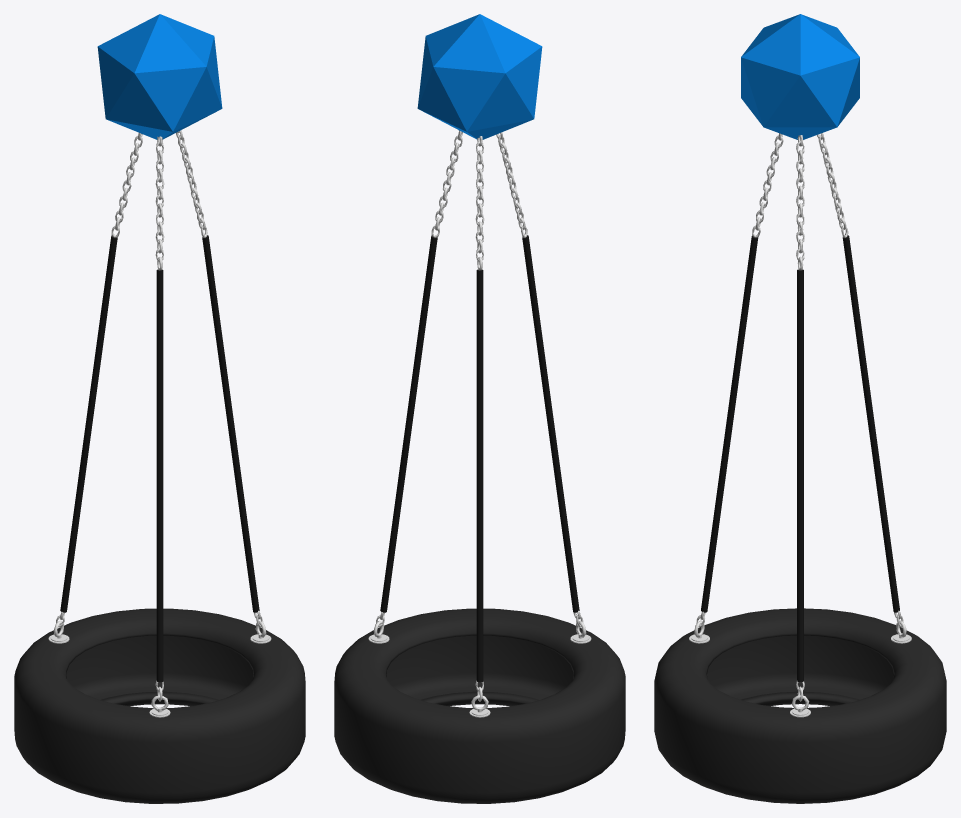
File: Tire swing 8ft.glb
3 renders of one model, left to right at view 1: azimuth 30°, elevation 25°; view 2: azimuth 150°, elevation 25°; view 3: azimuth 270°, elevation 25°, orthographic.
Visible parts, largest first — view 1: Cylinder.013, Joint.039, Cylinder.014, Torus.009; view 2: Cylinder.013, Joint.039, Cylinder.014, Torus.009; view 3: Cylinder.013, Joint.039, Cylinder.014, Torus.009.
Boxes of the visible parts, box(x1,y1,x2,y2) form: Cylinder.013: box(14, 608, 305, 803); Joint.039: box(97, 14, 222, 139); Cylinder.014: box(60, 235, 259, 682); Torus.009: box(53, 130, 266, 710); Cylinder.013: box(334, 608, 625, 803); Joint.039: box(417, 14, 542, 139); Cylinder.014: box(380, 235, 579, 682); Torus.009: box(373, 130, 586, 710); Cylinder.013: box(654, 608, 946, 803); Joint.039: box(741, 14, 859, 139); Cylinder.014: box(701, 235, 899, 681); Torus.009: box(694, 133, 906, 710).
Size of the model in its own units: 0.635 by 1.76 by 0.635.
